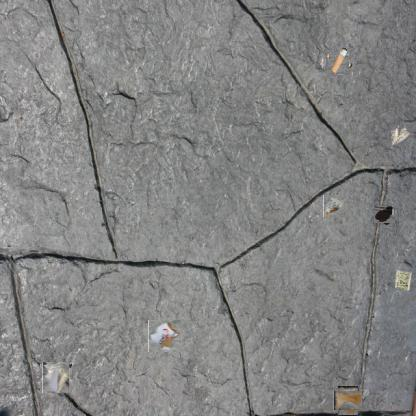dirty: (149, 320, 181, 353), (41, 363, 71, 392), (327, 47, 351, 73), (396, 268, 416, 292), (323, 196, 344, 217), (391, 125, 411, 145)
liquid: (336, 388, 360, 413), (374, 204, 394, 224)
